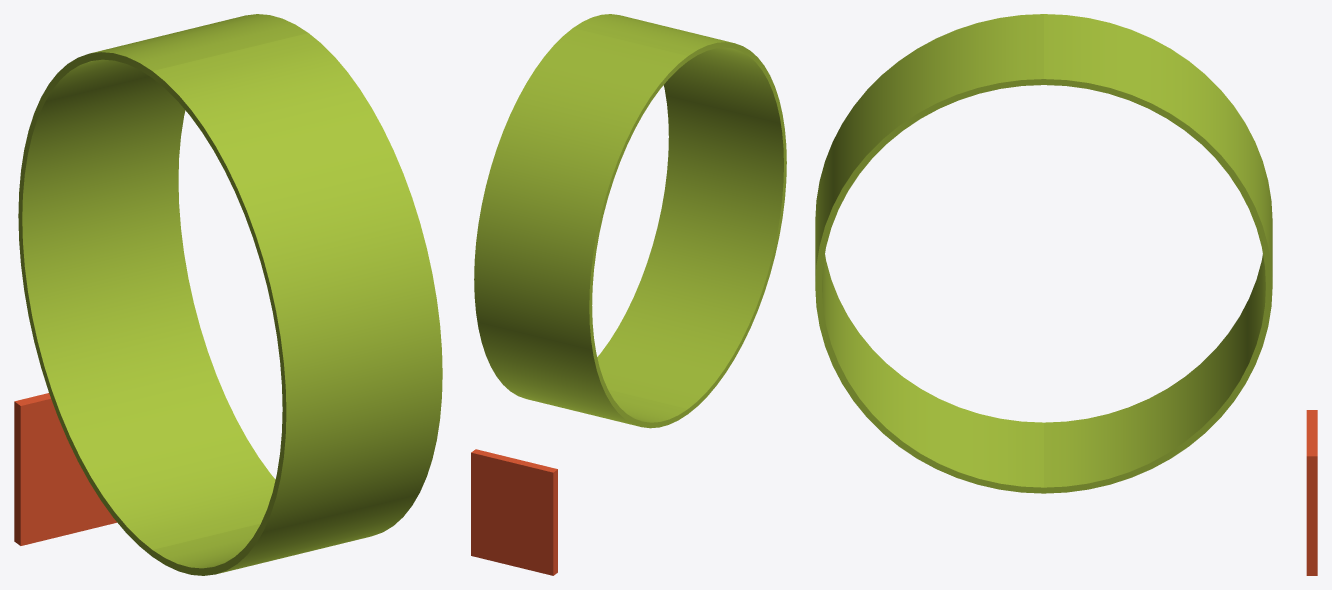
Rendered from grease_lubrication_system_temperature.glb.
3 views of the same model, side by side, from view 1: azimuth 30°, elevation 25°; view 2: azimuth 150°, elevation 25°; view 3: azimuth 270°, elevation 25° (orthographic). The views are drawn at different scales.
Parts seen in each view (by area): view 1: temperature__back, temperature__front; view 2: temperature__back, temperature__front; view 3: temperature__back, temperature__front.
Part boxes in pixels (box(x1,y1,x2,y2)): temperature__back: box(14, 14, 307, 556); temperature__front: box(152, 33, 442, 575); temperature__back: box(471, 28, 687, 575); temperature__front: box(573, 14, 786, 413); temperature__back: box(1044, 14, 1317, 575); temperature__front: box(815, 14, 1043, 493).
Size of the model in its own units: 0.07 by 0.254 by 0.2285.
